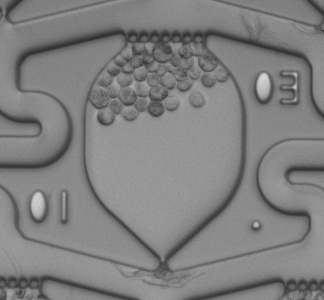AptNum: (251, 64, 302, 112)
Marker: (245, 216, 266, 235)
StNum: (25, 186, 75, 229)
